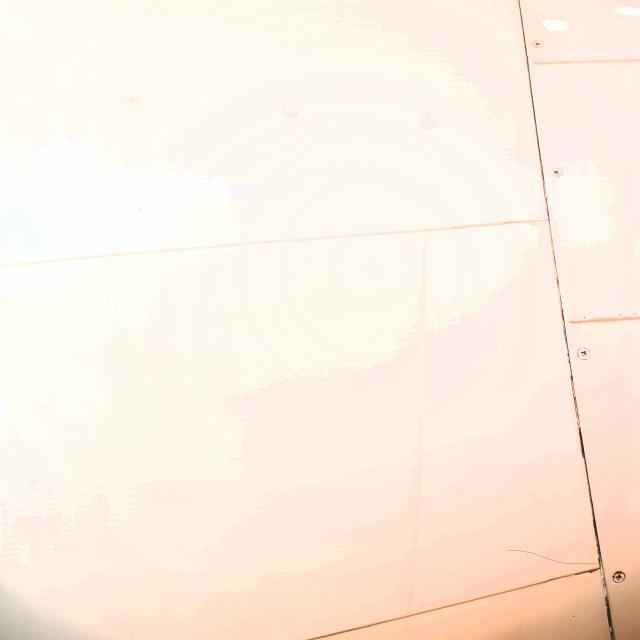crack: (506, 533, 609, 579)
